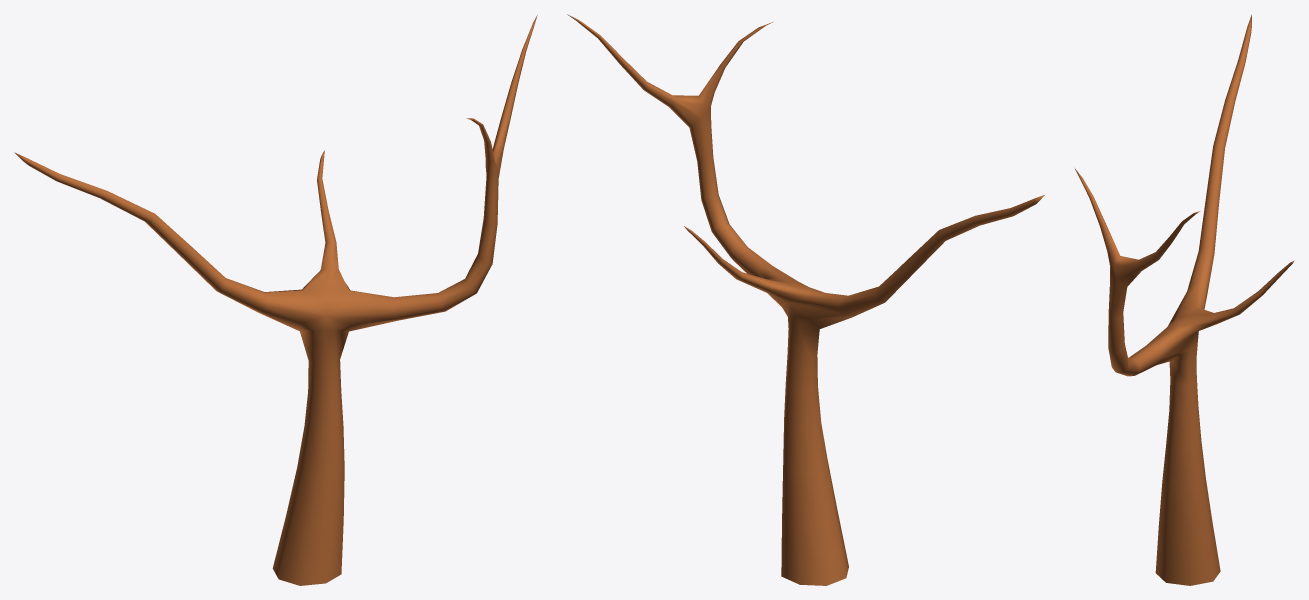
The model's file is DeadTree_C.fbx.
3 views of the same model, side by side, from view 1: azimuth 30°, elevation 25°; view 2: azimuth 150°, elevation 25°; view 3: azimuth 270°, elevation 25° (orthographic). The views are drawn at different scales.
Parts seen in each view (by area): view 1: Dead_Tree_m_03; view 2: Dead_Tree_m_03; view 3: Dead_Tree_m_03.
Part boxes in pixels (<box>): Dead_Tree_m_03: <box>14,15,537,585</box>; Dead_Tree_m_03: <box>567,14,1044,585</box>; Dead_Tree_m_03: <box>1075,14,1294,585</box>.
Size of the model in its own units: 758 by 721 by 306.
